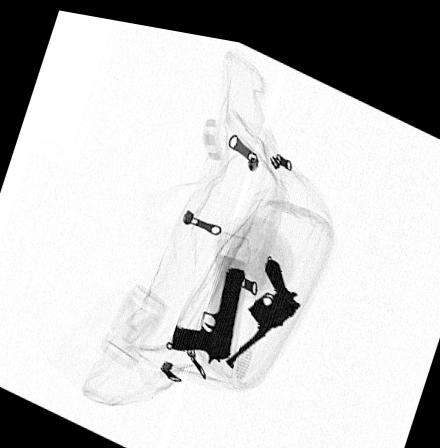Gun: (223, 247, 301, 361), (170, 257, 245, 356)
